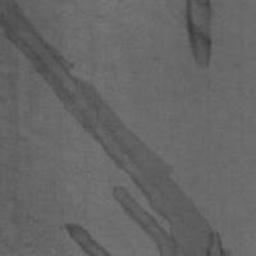Water spot: (0, 0, 236, 256), (186, 0, 214, 70), (64, 221, 115, 256)
